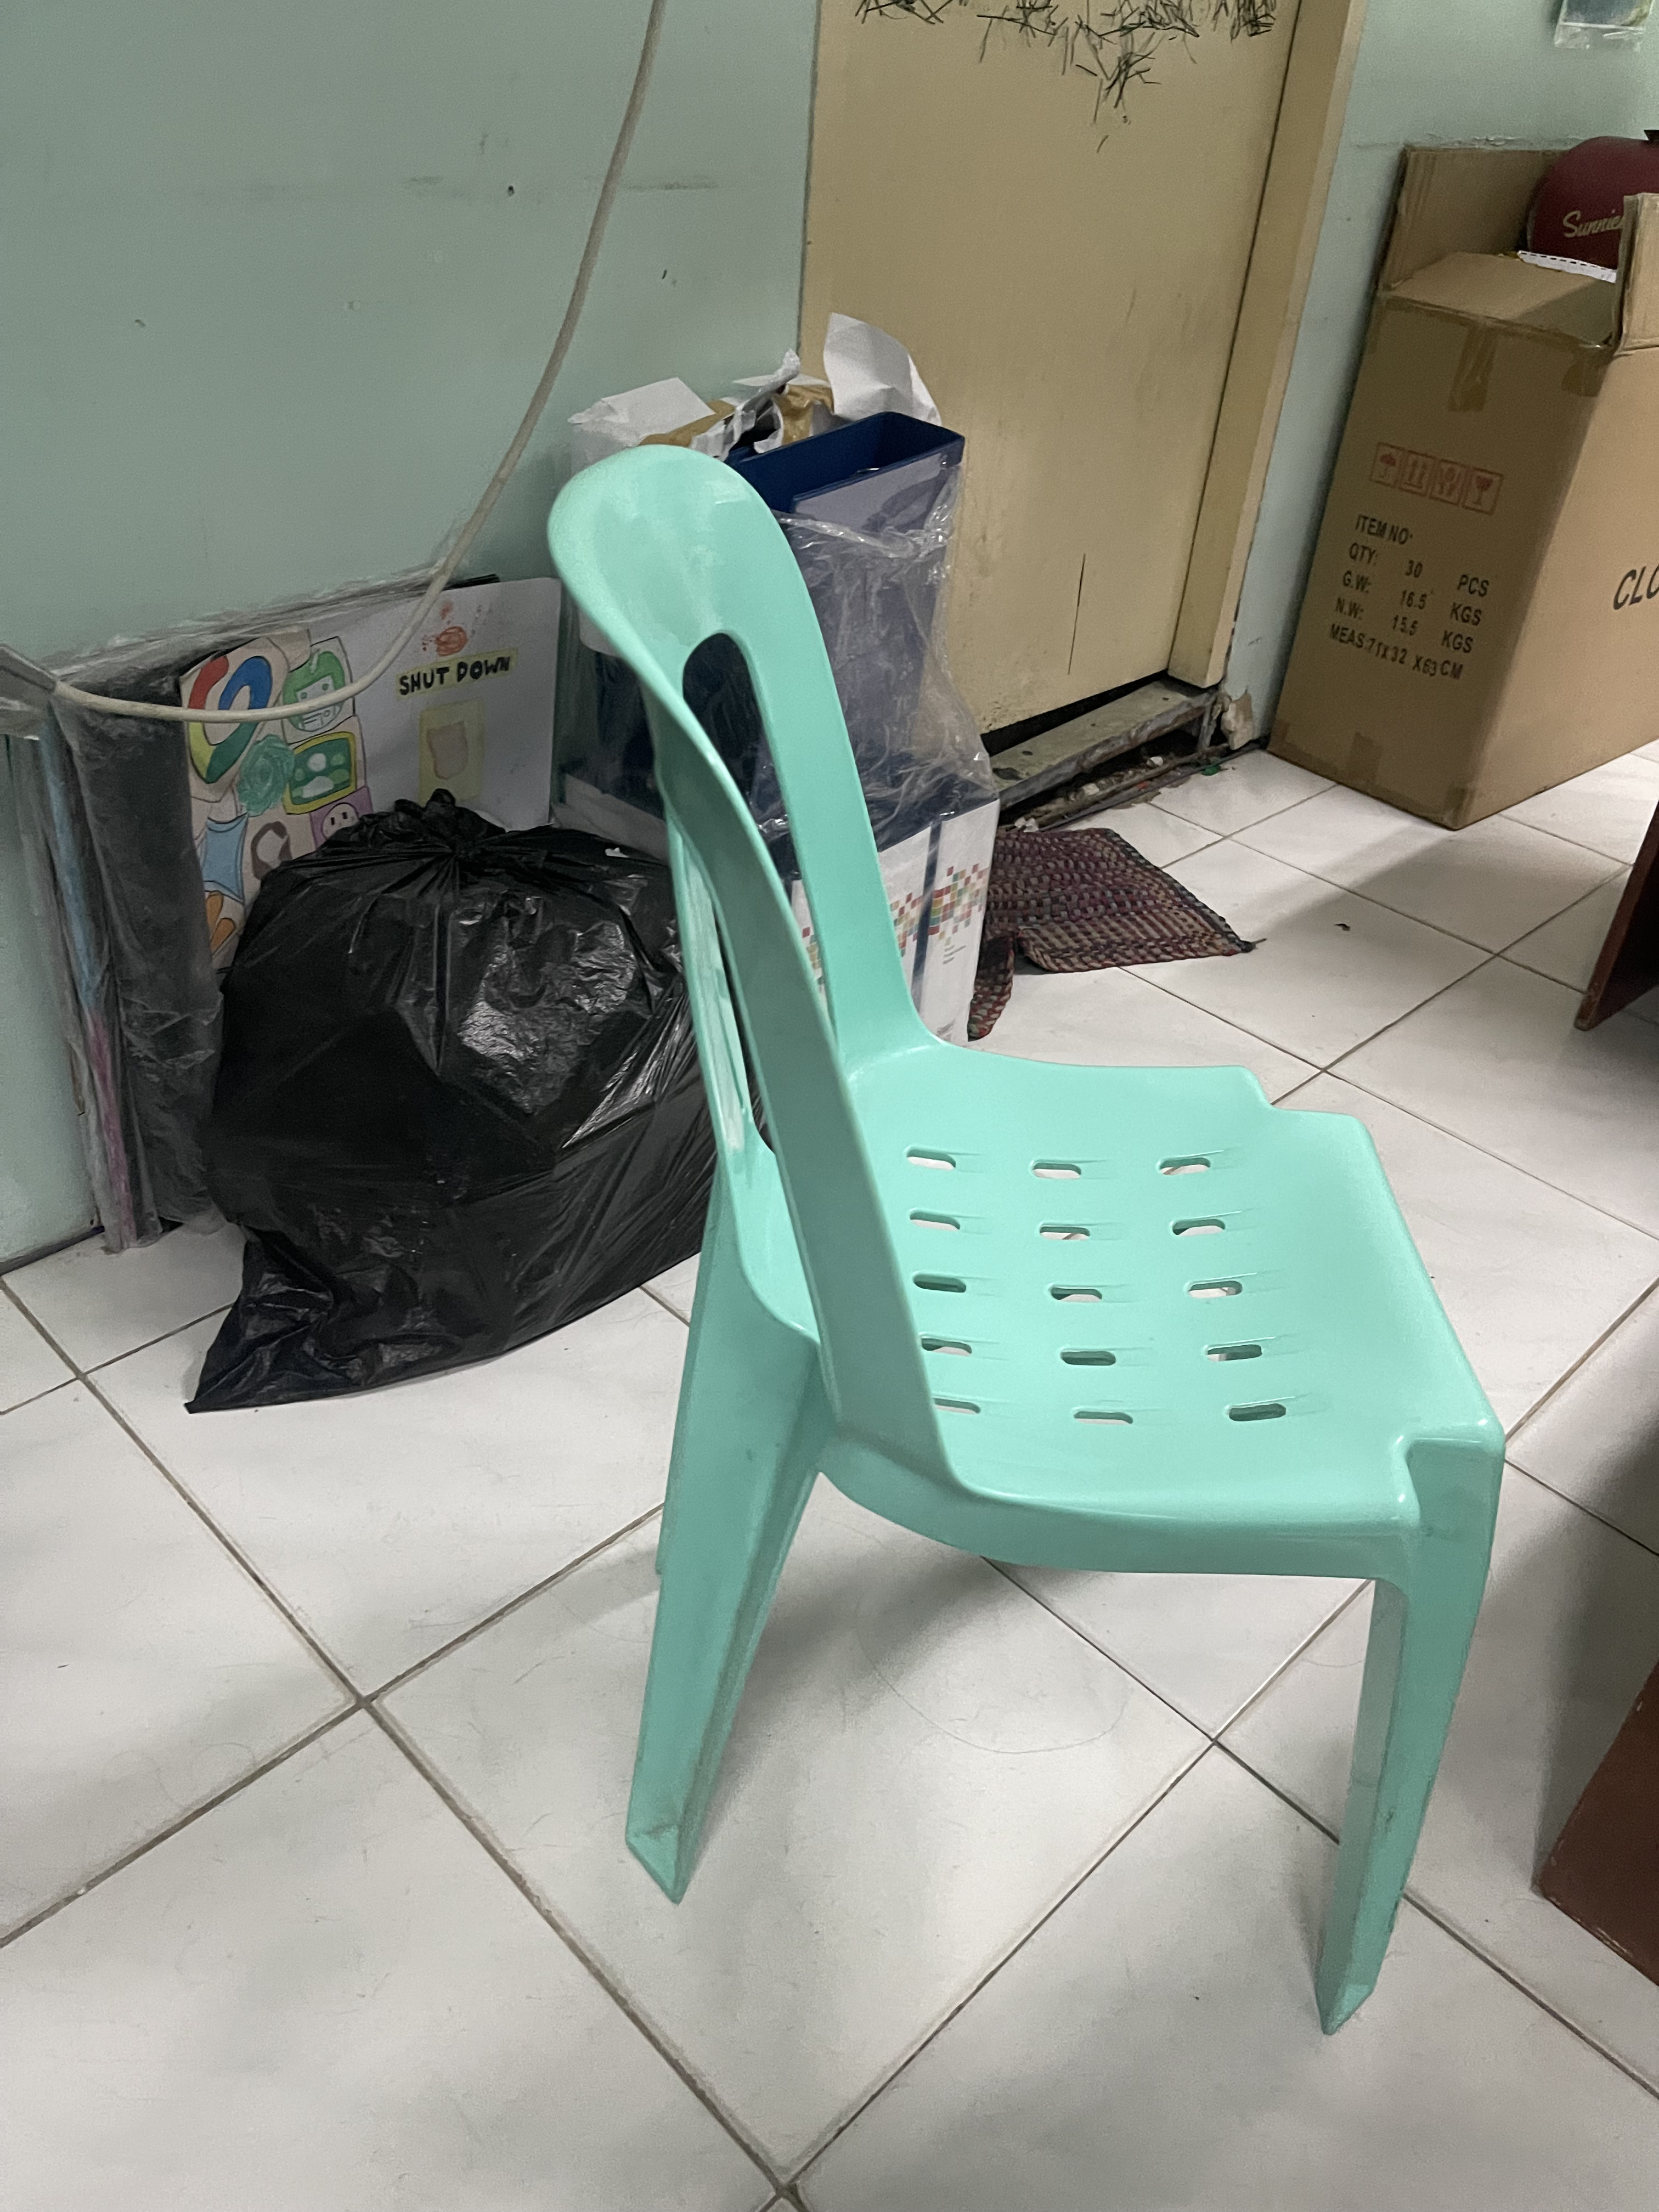chair2: (544, 442, 1509, 2050)
